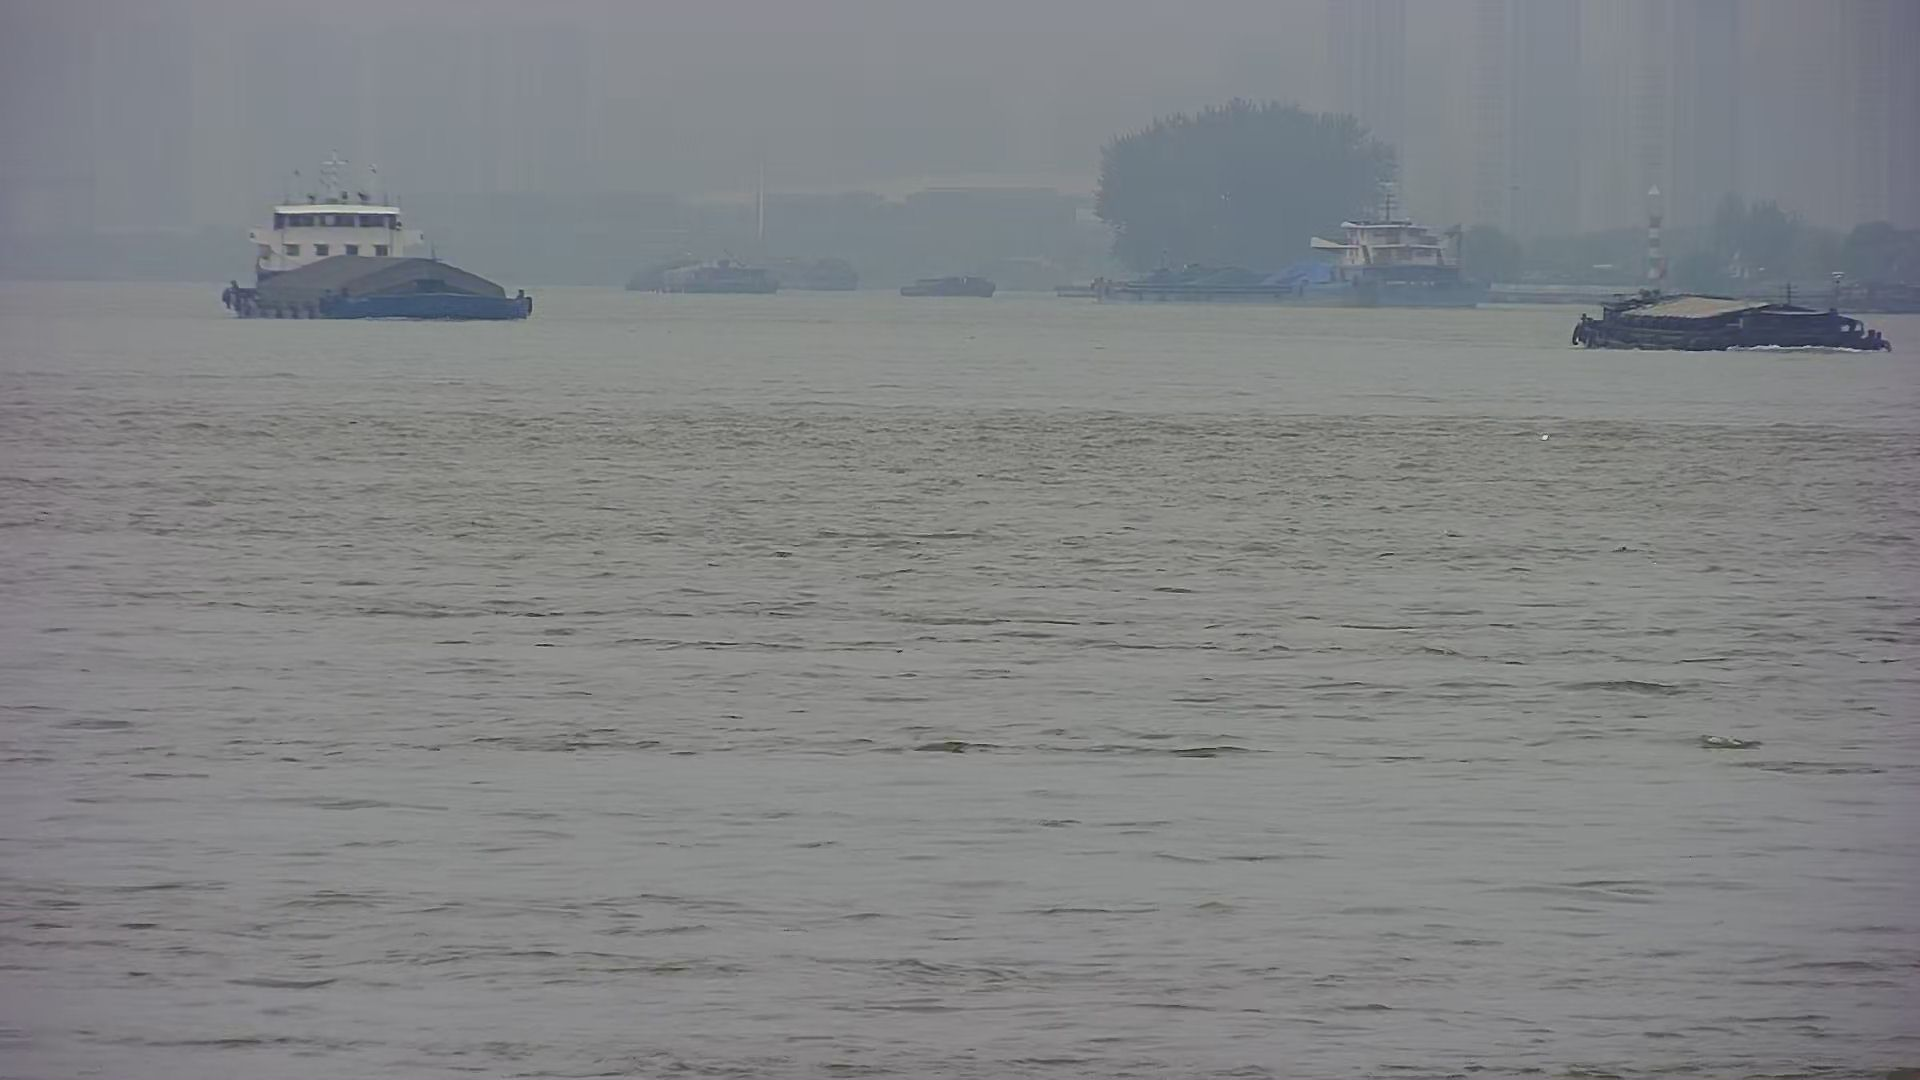ship: (1058, 175, 1505, 315), (204, 170, 560, 338), (1565, 261, 1898, 357), (615, 243, 802, 311), (887, 261, 1011, 303)
